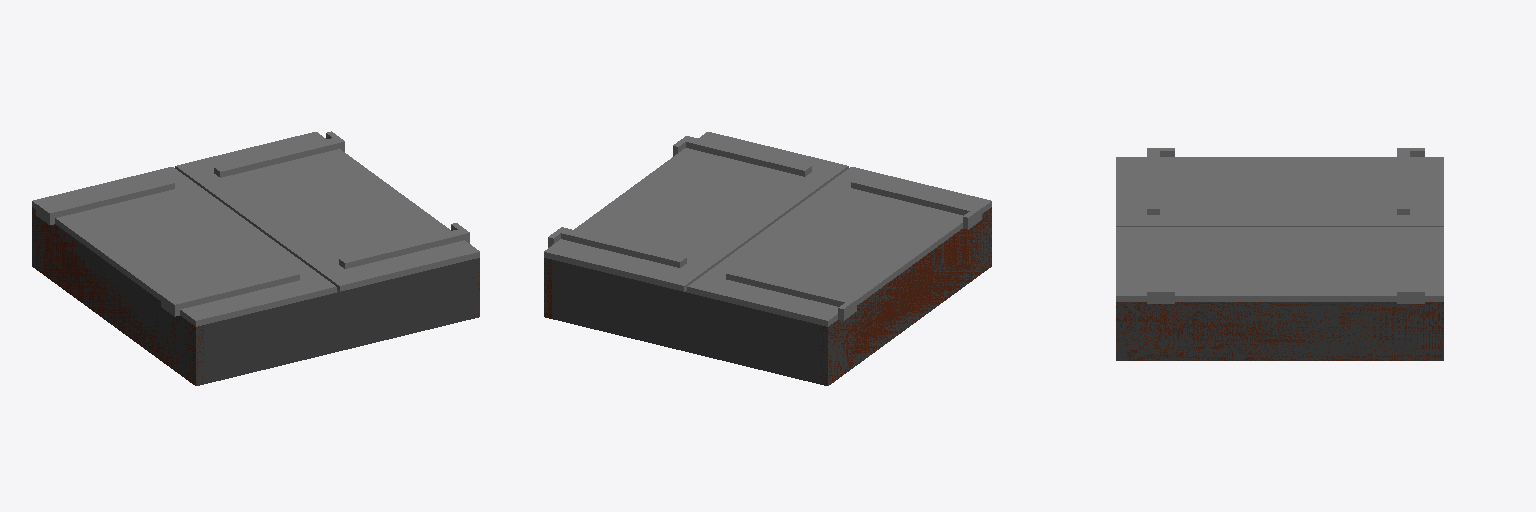
The model's file is close_window_decimate01.obj.
3 views of the same model, side by side, from view 1: azimuth 30°, elevation 25°; view 2: azimuth 150°, elevation 25°; view 3: azimuth 270°, elevation 25° (orthographic).
Visible parts, largest first — view 1: close_window; view 2: close_window; view 3: close_window.
Boxes of the visible parts, x1=… form: close_window: x1=32, y1=131, x2=479, y2=385; close_window: x1=544, y1=132, x2=991, y2=385; close_window: x1=1116, y1=148, x2=1443, y2=360.
Size of the model in its own units: 1.04 by 0.24 by 1.